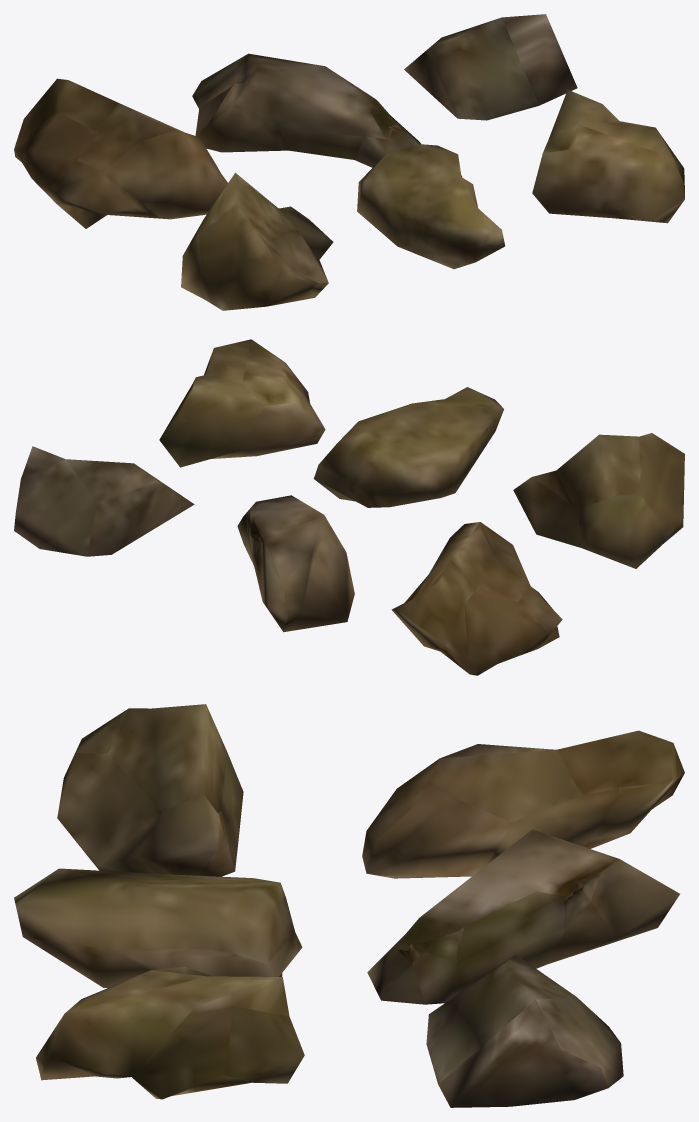
Rendered from rocher_mousse_lod2.glb.
3 views of the same model, one above another, from view 1: azimuth 30°, elevation 25°; view 2: azimuth 150°, elevation 25°; view 3: azimuth 270°, elevation 25° (orthographic). The views are drawn at different scales.
Parts seen in each view (by area): view 1: rock_moss_set_01_rock01; view 2: rock_moss_set_01_rock01; view 3: rock_moss_set_01_rock01.
Part boxes in pixels (<box>): rock_moss_set_01_rock01: <box>14,14,684,310</box>; rock_moss_set_01_rock01: <box>14,339,684,675</box>; rock_moss_set_01_rock01: <box>14,704,684,1107</box>.
Bounding box in the file's own units: 7.92 × 1.73 × 6.79.
Materials: 1 (1 with a texture image).
